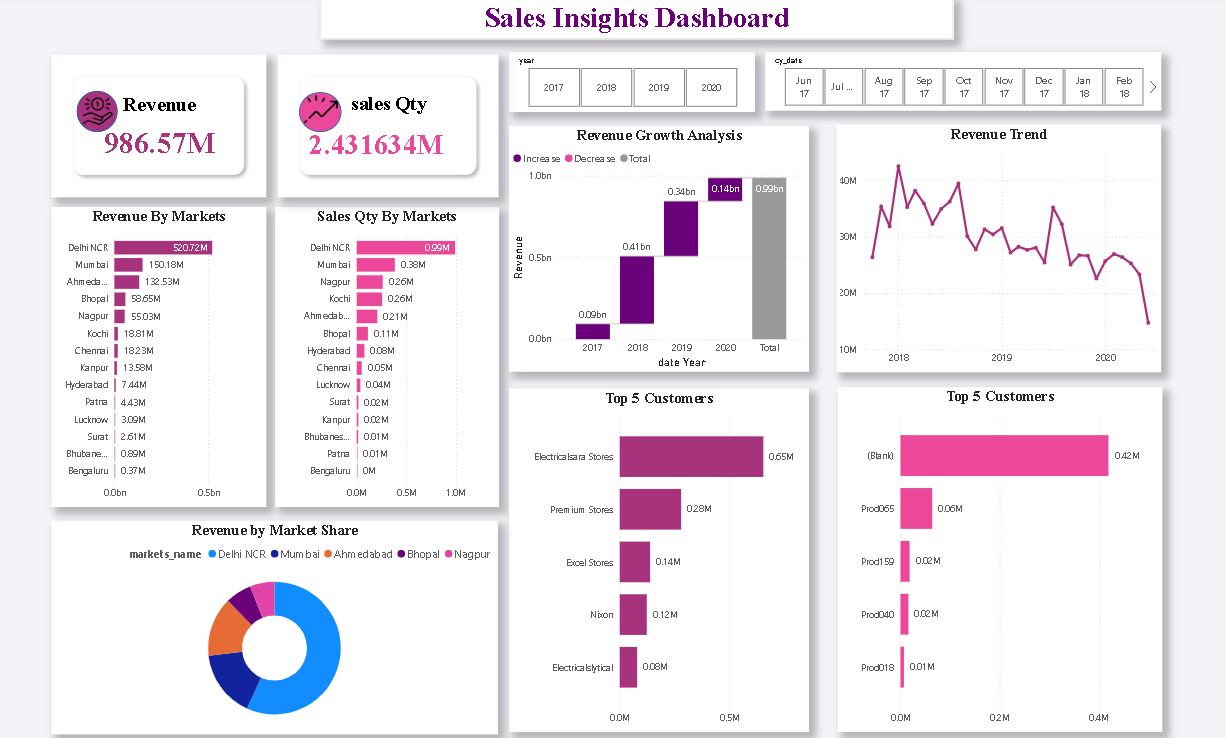

Layout of this report page (visuals, bound fields, positions):
{"tool":"powerbi","page":{"name":"Page 1","canvas":[1650,1000],"ordinal":0},"visuals":[{"type":"cardVisual","fields":{"Data":["BaseMeasures.Revenue"]},"box":[70,76.7,286.7,190],"z":0},{"type":"barChart","title":"Revenue By Markets","fields":{"Y":["BaseMeasures.Revenue"],"Category":["sales markets.markets_name"]},"box":[70,280,286,400],"z":1000},{"type":"barChart","title":"Sales Qty By Markets","fields":{"Y":["BaseMeasures.sales Qty"],"Category":["sales markets.markets_name"]},"box":[368,280,298,400],"z":2000},{"type":"slicer","fields":{"Values":["sales date.year"]},"box":[680,74,328,80],"z":3000},{"type":"slicer","fields":{"Values":["sales date.cy_date"]},"box":[1022,74,528,78],"z":4000},{"type":"barChart","title":"Top 5 Customers ","fields":{"Y":["BaseMeasures.sales Qty"],"Category":["sales customers.custmer_name"]},"box":[680,521.7,400,458.3],"z":5000},{"type":"barChart","title":"Top 5 Customers ","fields":{"Y":["BaseMeasures.sales Qty"],"Category":["sales products.product_code"]},"box":[1117.5,520,432.5,460],"z":6000},{"type":"lineChart","title":"Revenue Trend","fields":{"Y":["BaseMeasures.Revenue"],"Category":["sales date.cy_date"]},"box":[1117.1,170,432.9,330],"z":7000},{"type":"textbox","box":[428.3,0,845,56.7],"z":8000},{"type":"shape","box":[103.3,125,55,55],"z":9000},{"type":"image","box":[110,125,43.3,55],"z":10000},{"type":"donutChart","title":"Revenue by Market Share","fields":{"Y":["BaseMeasures.Revenue"],"Category":["sales markets.markets_name"]},"box":[70,697.5,595,285],"z":11000},{"type":"cardVisual","fields":{"Data":["BaseMeasures.sales Qty"]},"box":[372,76,294,190],"z":12000},{"type":"shape","box":[400,126.7,56.7,53.3],"z":13000},{"type":"image","box":[403.3,126.7,50,48.3],"z":14000},{"type":"waterfallChart","title":"Revenue Growth Analysis","fields":{"Category":["sales date.date.Variation.Date Hierarchy.Year","sales date.date.Variation.Date Hierarchy.Quarter","sales date.date.Variation.Date Hierarchy.Month","sales date.date.Variation.Date Hierarchy.Day"],"Y":["BaseMeasures.Revenue"]},"box":[680,171.7,400,328.3],"z":16000}]}

Visuals, with their boxes in screenshot pixels (x1, y1, x2, y2), scaled from the page's 1650x1000 canvas onto the 1226x738 screenshot:
cardVisual - BaseMeasures.Revenue: detection(52, 57, 265, 197)
"Revenue By Markets" barChart: detection(52, 207, 265, 502)
"Sales Qty By Markets" barChart: detection(273, 207, 495, 502)
slicer - sales date.year: detection(505, 55, 749, 114)
slicer - sales date.cy_date: detection(759, 55, 1152, 112)
"Top 5 Customers " barChart: detection(505, 385, 802, 723)
"Top 5 Customers " barChart: detection(830, 384, 1152, 723)
"Revenue Trend" lineChart: detection(830, 125, 1152, 369)
textbox: detection(318, 0, 946, 42)
shape: detection(77, 92, 118, 133)
image: detection(82, 92, 114, 133)
"Revenue by Market Share" donutChart: detection(52, 515, 494, 725)
cardVisual - BaseMeasures.sales Qty: detection(276, 56, 495, 196)
shape: detection(297, 94, 339, 133)
image: detection(300, 94, 337, 129)
"Revenue Growth Analysis" waterfallChart: detection(505, 127, 802, 369)
